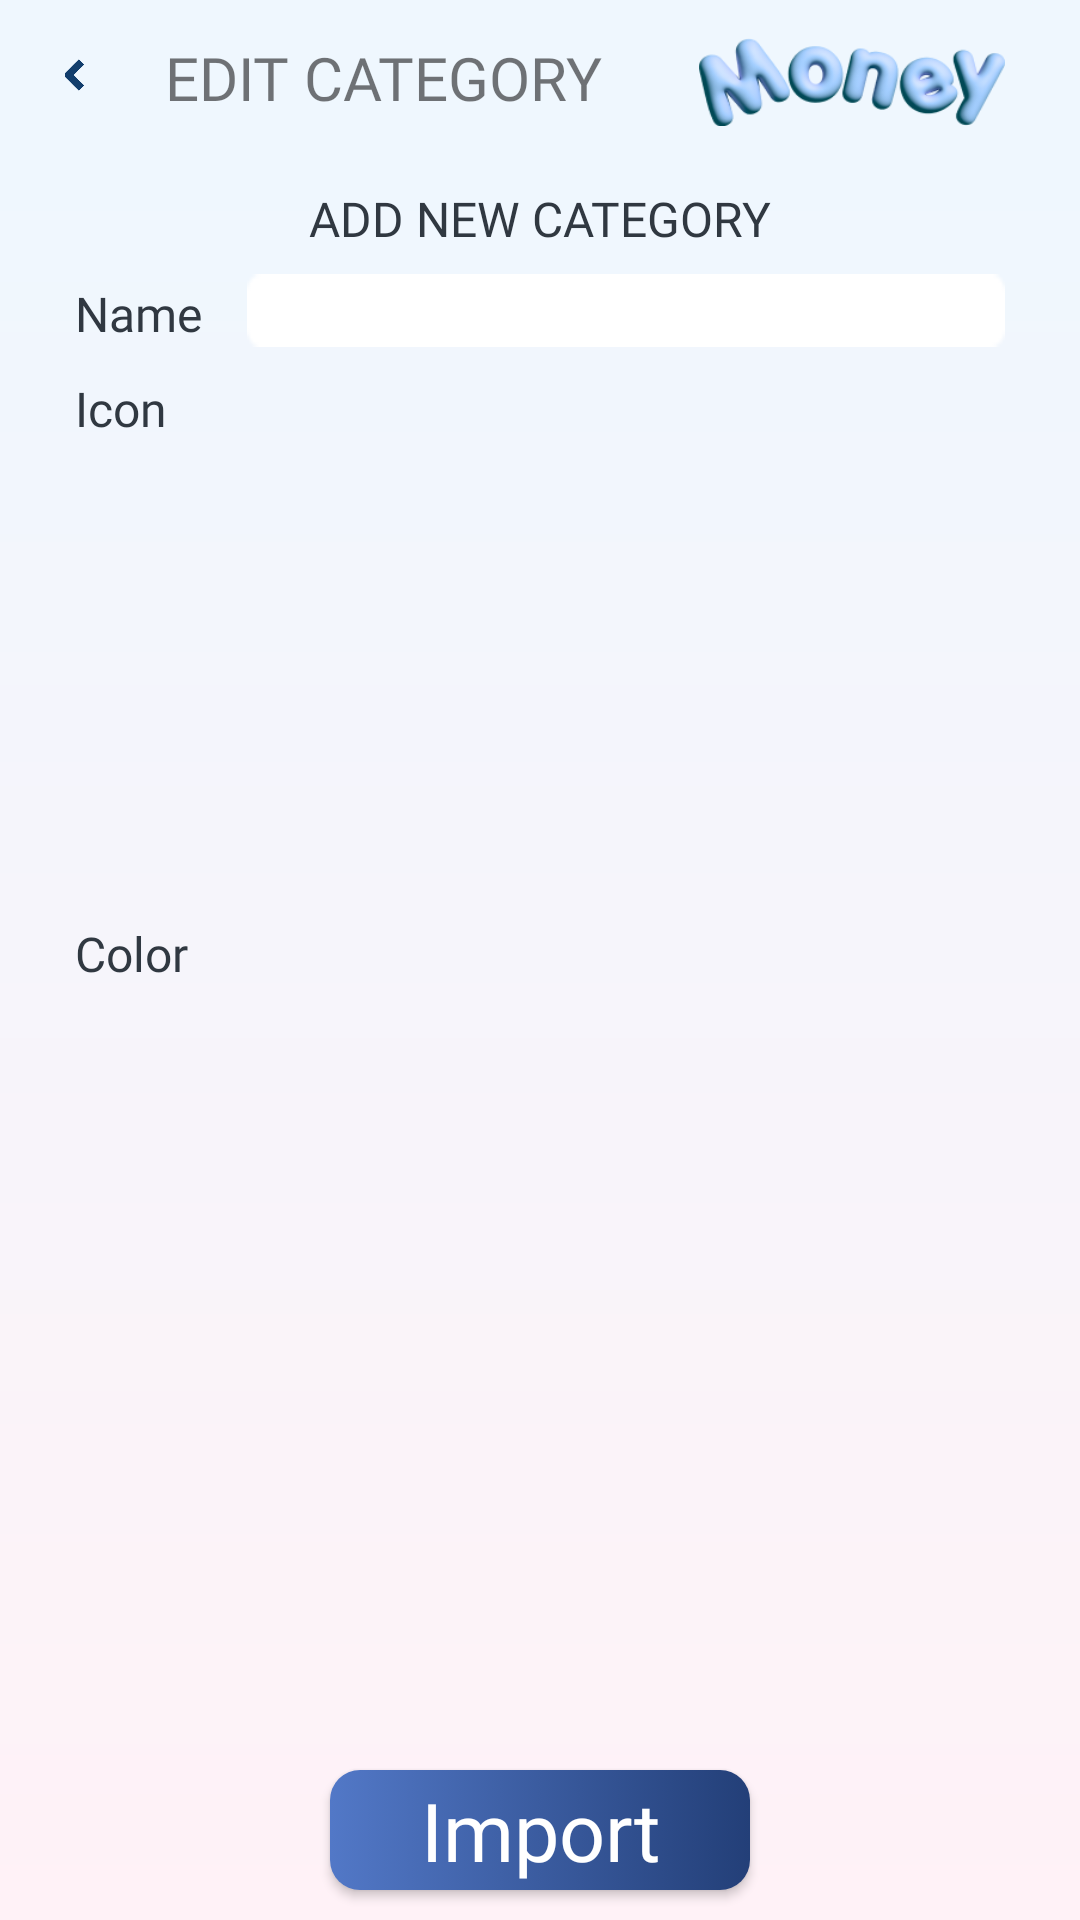

Named icons in this screenshot (1080×1920) and their bounding boxes, (x1, y1, x2, y2):
left forward: (65, 59, 84, 91)
